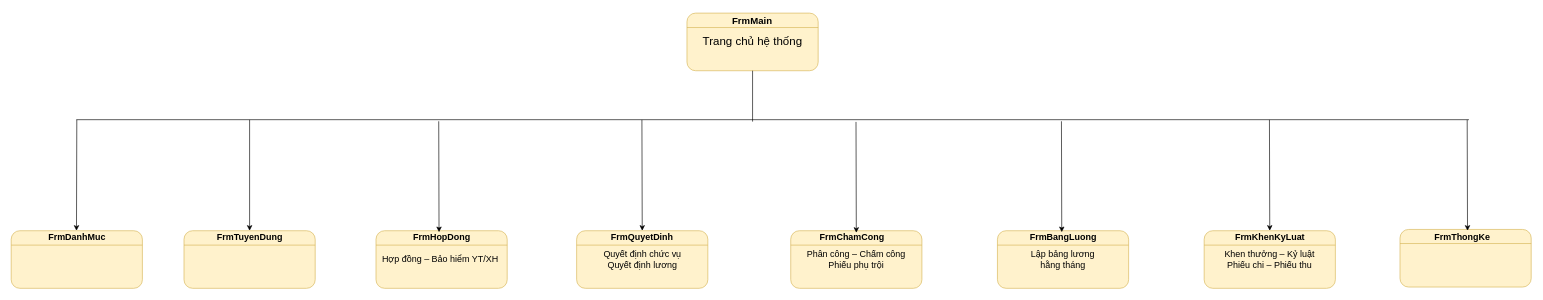
Some shapes in this 1543 by 300 pixel diagram are drawn without their labels. Each missing label, with the box of its shape:
Phòng ban – Hồ sơ nhân viên: (11, 230, 142, 288)
Quyết định tuyển dụng Thử việc: (183, 230, 315, 288)
Tra cứu – Thống kê: (1399, 229, 1531, 287)
